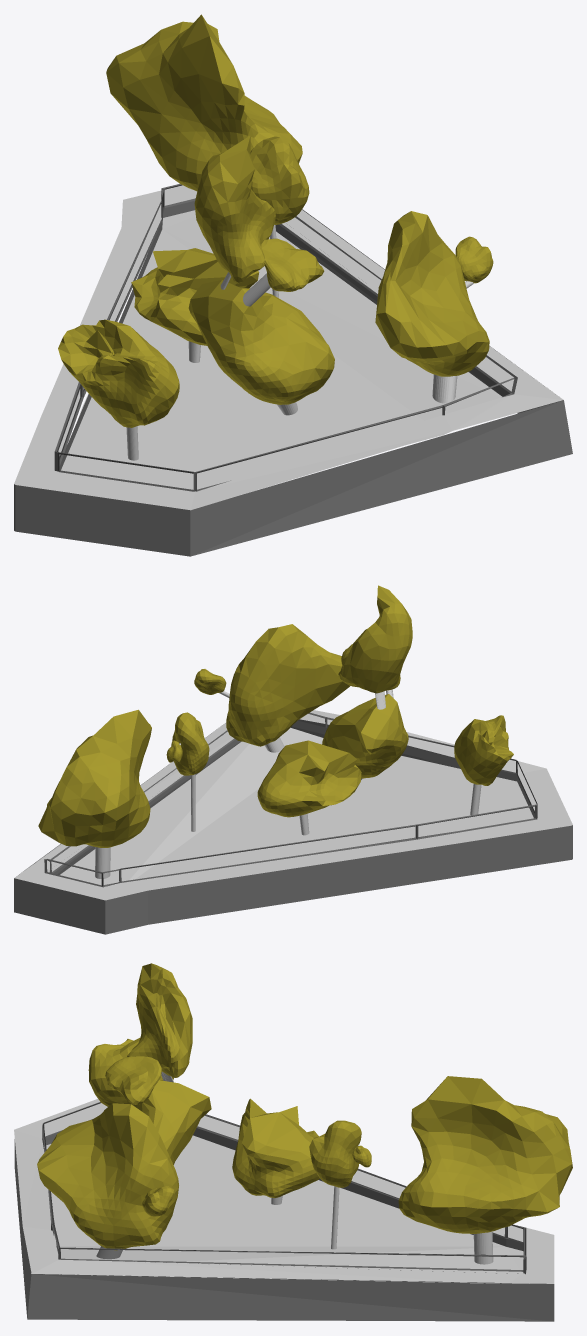
Rendered from jardinb.dae.
The picture shows the model from 3 angles, top to bottom: view 1: azimuth 30°, elevation 25°; view 2: azimuth 150°, elevation 25°; view 3: azimuth 270°, elevation 25°; orthographic projection. The views are drawn at different scales.
Parts seen in each view (by area): view 1: Cube_012; view 2: Cube_012; view 3: Cube_012.
Boxes of the visible parts, x1,y1,x2,y2 form: Cube_012: [14, 14, 572, 556]; Cube_012: [14, 585, 572, 934]; Cube_012: [14, 963, 572, 1321].
Size of the model in its own units: 405 by 489 by 252.
